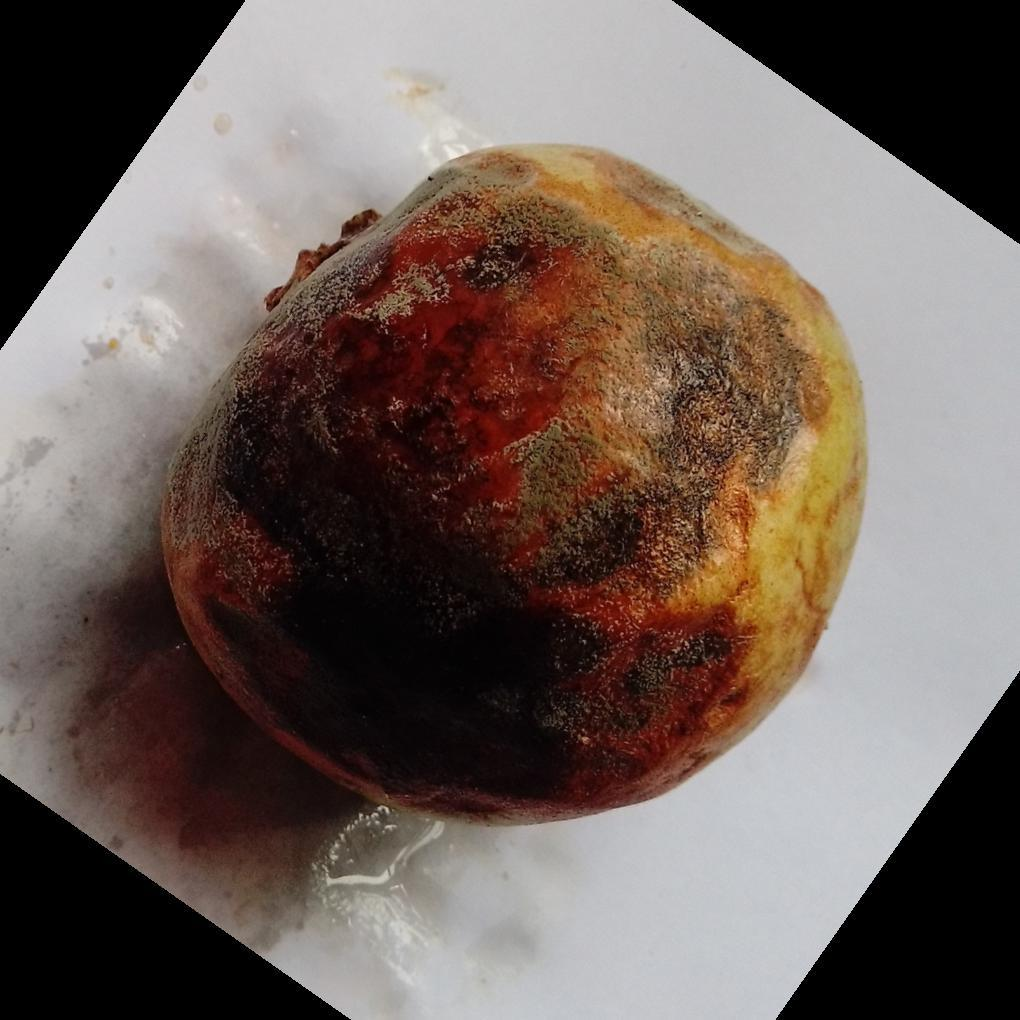FreshOrange: (155, 144, 871, 834)
